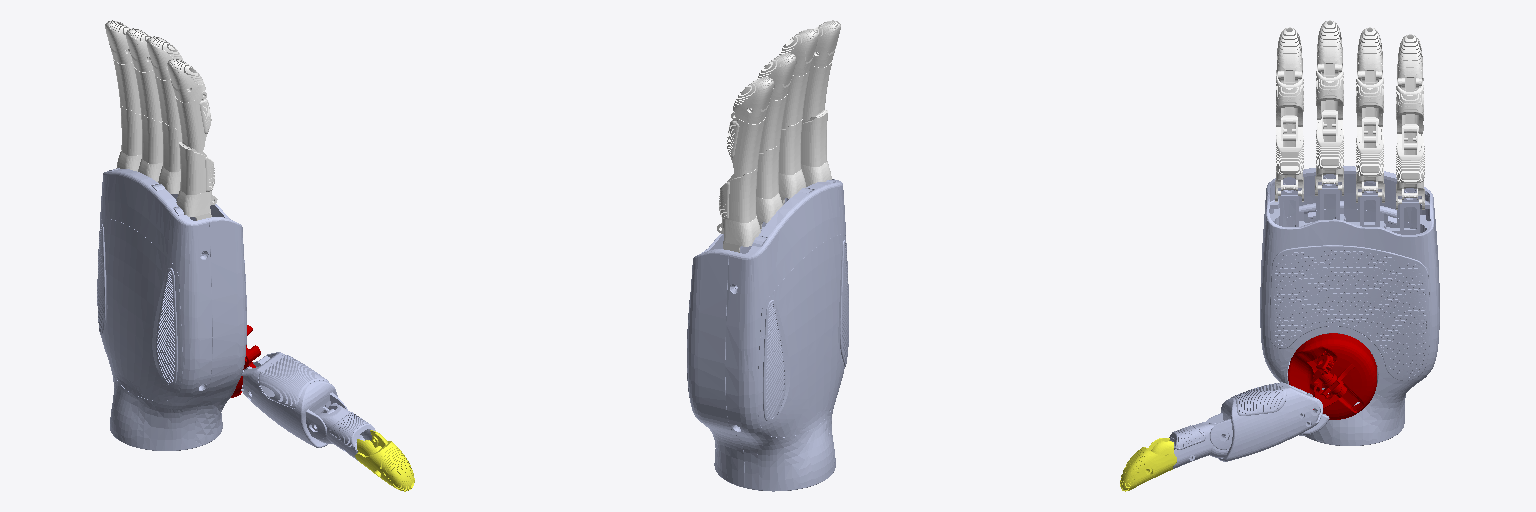
URDF robot description (linkerhand_L25YS_left.urdf):
<?xml version='1.0' encoding='utf-8'?>
<robot name="linkerhand_L25YS_left.urdf">
  <link name="hand_base_link">
    <inertial>
      <origin xyz="-0.00235533265975 0.000476950676817 0.0840274681191" rpy="0 0 0" />
      <mass value="0.130043890829141" />
      <inertia ixx="0.000269869493590307" ixy="5.66836728556e-07" ixz="1.07919384479383E-06" iyy="0.000164906210534402" iyz="-4.94586055859e-06" izz="0.00011883452436949" />
    </inertial>
    <visual>
      <origin xyz="0 -0 0" rpy="0 0 0" />
      <geometry>
        <mesh filename="meshes/hand_base_link.STL" />
      </geometry>
      <material name="">
        <color rgba="0.792156862745098 0.819607843137255 0.929411764705882 1" />
      </material>
    </visual>
    <collision>
      <origin xyz="0 -0 0" rpy="0 0 0" />
      <geometry>
        <mesh filename="meshes/hand_base_link.STL" />
      </geometry>
    </collision>
  </link>
  <link name="thumb_metacarpals_base1">
    <inertial>
      <origin xyz="0.0121300685642 0.003686264019 0.000253013805235" rpy="0 0 0" />
      <mass value="0.0173128324517923" />
      <inertia ixx="4.0497489026424E-06" ixy="1.31074266242e-07" ixz="-7.53905165403533E-09" iyy="2.43513754798381E-06" iyz="-1.46366596393e-07" izz="2.09347392894973E-06" />
    </inertial>
    <visual>
      <origin xyz="0 -0 0" rpy="0 0 0" />
      <geometry>
        <mesh filename="meshes/thumb_metacarpals_base1.STL" />
      </geometry>
      <material name="">
        <color rgba="0.749019607843137 0 0 1" />
      </material>
    </visual>
    <collision>
      <origin xyz="0 -0 0" rpy="0 0 0" />
      <geometry>
        <mesh filename="meshes/thumb_metacarpals_base1.STL" />
      </geometry>
    </collision>
  </link>
  <joint name="thumb_cmc_roll" type="revolute">
    <origin xyz="0.01916 -0.01 0.0436" rpy="0 0 0" />
    <parent link="hand_base_link" />
    <child link="thumb_metacarpals_base1" />
    <axis xyz="-1 0 -0" />
    <limit lower="0" upper="1.39" effort="0" velocity="1" />
  </joint>
  <link name="thumb_metacarpals_base2">
    <inertial>
      <origin xyz="0.00145768421938 -0.00427730188418 0.00427718742092" rpy="0 0 0" />
      <mass value="0.0104609680387425" />
      <inertia ixx="1.01498446393502E-06" ixy="-1.60237316815e-07" ixz="-9.39061051572462E-08" iyy="5.43731509546478E-07" iyz="2.69571705103e-07" izz="7.46018347937883E-07" />
    </inertial>
    <visual>
      <origin xyz="0 -0 0" rpy="0 0 0" />
      <geometry>
        <mesh filename="meshes/thumb_metacarpals_base2.STL" />
      </geometry>
      <material name="">
        <color rgba="0.749 0 0 1" />
      </material>
    </visual>
    <collision>
      <origin xyz="0 -0 0" rpy="0 0 0" />
      <geometry>
        <mesh filename="meshes/thumb_metacarpals_base2.STL" />
      </geometry>
    </collision>
  </link>
  <joint name="thumb_cmc_yaw" type="revolute">
    <origin xyz="0.019845 -0 0" rpy="0.77165 0 0" />
    <parent link="thumb_metacarpals_base1" />
    <child link="thumb_metacarpals_base2" />
    <axis xyz="-0 0 1" />
    <limit lower="0" upper="1.57" effort="0" velocity="1" />
  </joint>
  <link name="thumb_metacarpals">
    <inertial>
      <origin xyz="0.00166395649131 -3.23455418085e-05 0.026876825553" rpy="0 0 0" />
      <mass value="0.0231166462756945" />
      <inertia ixx="7.05340216362533E-06" ixy="-3.46779128406e-09" ixz="1.20984983371333E-07" iyy="8.45529201210186E-06" iyz="4.08116131354e-08" izz="2.28098786020238E-06" />
    </inertial>
    <visual>
      <origin xyz="0 -0 0" rpy="0 0 0" />
      <geometry>
        <mesh filename="meshes/thumb_metacarpals.STL" />
      </geometry>
      <material name="">
        <color rgba="0.792156862745098 0.819607843137255 0.933333333333333 1" />
      </material>
    </visual>
    <collision>
      <origin xyz="0 -0 0" rpy="0 0 0" />
      <geometry>
        <mesh filename="meshes/thumb_metacarpals.STL" />
      </geometry>
    </collision>
  </link>
  <joint name="thumb_cmc_pitch" type="revolute">
    <origin xyz="0.00643 -0.017666 0.0005" rpy="-1.11022302463e-16 -1.0678 1.9199" />
    <parent link="thumb_metacarpals_base2" />
    <child link="thumb_metacarpals" />
    <axis xyz="-0 1 -0" />
    <limit lower="0" upper="0.83" effort="0" velocity="1" />
  </joint>
  <link name="thumb_proximal">
    <inertial>
      <origin xyz="-0.00216253056774 -0.000518290081375 0.0119572921096" rpy="0 0 0" />
      <mass value="0.00549015551090954" />
      <inertia ixx="4.73112823619181E-07" ixy="-2.71664429442e-10" ixz="6.46214852016994E-08" iyy="6.23171601919004E-07" iyz="-5.10860081746e-09" izz="2.40156566276674E-07" />
    </inertial>
    <visual>
      <origin xyz="0 -0 0" rpy="0 0 0" />
      <geometry>
        <mesh filename="meshes/thumb_proximal.STL" />
      </geometry>
      <material name="">
        <color rgba="0.792156862745098 0.819607843137255 0.933333333333333 1" />
      </material>
    </visual>
    <collision>
      <origin xyz="0 -0 0" rpy="0 0 0" />
      <geometry>
        <mesh filename="meshes/thumb_proximal.STL" />
      </geometry>
    </collision>
  </link>
  <joint name="thumb_mcp" type="revolute">
    <origin xyz="0.004056 3.2464e-05 0.056083" rpy="0 0 0" />
    <parent link="thumb_metacarpals" />
    <child link="thumb_proximal" />
    <axis xyz="-0 1 -0" />
    <limit lower="0" upper="1.25" effort="0" velocity="1" />
  </joint>
  <link name="thumb_distal">
    <inertial>
      <origin xyz="-0.000156463068744 -4.17127972733e-05 0.0112120749516" rpy="0 0 0" />
      <mass value="0.00585464354874344" />
      <inertia ixx="3.46753247559069E-07" ixy="-3.27775618154e-10" ixz="-1.0520040575966E-07" iyy="4.37703674166437E-07" iyz="9.51622290976e-10" izz="1.76044008182289E-07" />
    </inertial>
    <visual>
      <origin xyz="0 -0 0" rpy="0 0 0" />
      <geometry>
        <mesh filename="meshes/thumb_distal.STL" />
      </geometry>
      <material name="">
        <color rgba="0.996078431372549 1 0.317647058823529 1" />
      </material>
    </visual>
    <collision>
      <origin xyz="0 -0 0" rpy="0 0 0" />
      <geometry>
        <mesh filename="meshes/thumb_distal.STL" />
      </geometry>
    </collision>
  </link>
  <joint name="thumb_ip" type="revolute">
    <origin xyz="-0.0033235 6.7577e-05 0.034403" rpy="0 0 0" />
    <parent link="thumb_proximal" />
    <child link="thumb_distal" />
    <axis xyz="-0 1 -0" />
    <limit lower="0" upper="1.29" effort="0" velocity="1" />
    <mimic joint="thumb_mcp" multiplier="1.03" offset="0" />
  </joint>
  <link name="index_metacarpals">
    <inertial>
      <origin xyz="-0.00794297216281 -3.01916907204e-07 0.00220112289532" rpy="0 0 0" />
      <mass value="0.000895533937958974" />
      <inertia ixx="3.46286807517812E-08" ixy="-5.2071428442e-13" ixz="5.91055678814615E-09" iyy="2.85439868248641E-08" iyz="-6.15938034352e-13" izz="4.38105935611934E-08" />
    </inertial>
    <visual>
      <origin xyz="0 -0 0" rpy="0 0 0" />
      <geometry>
        <mesh filename="meshes/index_metacarpals.STL" />
      </geometry>
      <material name="">
        <color rgba="1 1 1 1" />
      </material>
    </visual>
    <collision>
      <origin xyz="0 -0 0" rpy="0 0 0" />
      <geometry>
        <mesh filename="meshes/index_metacarpals.STL" />
      </geometry>
    </collision>
  </link>
  <joint name="index_mcp_roll" type="revolute">
    <origin xyz="0.0038 -0.03525 0.1481" rpy="0 0 0" />
    <parent link="hand_base_link" />
    <child link="index_metacarpals" />
    <axis xyz="1 0 -0" />
    <limit lower="-0.23" upper="0.23" effort="0" velocity="1" />
  </joint>
  <link name="index_proximal">
    <inertial>
      <origin xyz="-0.00114165889805 3.47779025312e-05 0.0228930740987" rpy="0 0 0" />
      <mass value="0.00450935628154296" />
      <inertia ixx="6.66693338335737E-07" ixy="-1.00781853152e-11" ixz="-2.53156876802065E-08" iyy="6.74214594716538E-07" iyz="-1.59197443844e-10" izz="1.35760887991129E-07" />
    </inertial>
    <visual>
      <origin xyz="0 -0 0" rpy="0 0 0" />
      <geometry>
        <mesh filename="meshes/index_proximal.STL" />
      </geometry>
      <material name="">
        <color rgba="1 1 1 1" />
      </material>
    </visual>
    <collision>
      <origin xyz="0 -0 0" rpy="0 0 0" />
      <geometry>
        <mesh filename="meshes/index_proximal.STL" />
      </geometry>
    </collision>
  </link>
  <joint name="index_mcp_pitch" type="revolute">
    <origin xyz="-0.0021302 -0 0" rpy="0 0 0" />
    <parent link="index_metacarpals" />
    <child link="index_proximal" />
    <axis xyz="-0 1 -0" />
    <limit lower="0" upper="1.22" effort="0" velocity="1" />
  </joint>
  <link name="index_middle">
    <inertial>
      <origin xyz="-0.00020683031467 2.69762827292e-06 0.0167055565295" rpy="0 0 0" />
      <mass value="0.0023786182416333" />
      <inertia ixx="2.29584431475406E-07" ixy="3.79527882015e-12" ixz="-1.47269516053003E-08" iyy="1.76802239049368E-07" iyz="-3.59871792653e-13" izz="9.62875380319594E-08" />
    </inertial>
    <visual>
      <origin xyz="0 -0 0" rpy="0 0 0" />
      <geometry>
        <mesh filename="meshes/index_middle.STL" />
      </geometry>
      <material name="">
        <color rgba="1 1 1 1" />
      </material>
    </visual>
    <collision>
      <origin xyz="0 -0 0" rpy="0 0 0" />
      <geometry>
        <mesh filename="meshes/index_middle.STL" />
      </geometry>
    </collision>
  </link>
  <joint name="index_pip" type="revolute">
    <origin xyz="-0.0041946 -0 0.044819" rpy="0 0 0" />
    <parent link="index_proximal" />
    <child link="index_middle" />
    <axis xyz="-0 1 -0" />
    <limit lower="0" upper="1.75" effort="0" velocity="1" />
  </joint>
  <link name="index_distal">
    <inertial>
      <origin xyz="-0.00816260402462 2.26721604493e-05 0.0081181972287" rpy="0 0 0" />
      <mass value="0.00334176238570704" />
      <inertia ixx="1.59568900399119E-07" ixy="1.52271643282e-10" ixz="-5.94266141046017E-08" iyy="1.78096631602273E-07" iyz="-1.23981970769e-10" izz="1.34139906914153E-07" />
    </inertial>
    <visual>
      <origin xyz="0 -0 0" rpy="0 0 0" />
      <geometry>
        <mesh filename="meshes/index_distal.STL" />
      </geometry>
      <material name="">
        <color rgba="1 1 1 1" />
      </material>
    </visual>
    <collision>
      <origin xyz="0 -0 0" rpy="0 0 0" />
      <geometry>
        <mesh filename="meshes/index_distal.STL" />
      </geometry>
    </collision>
  </link>
  <joint name="index_dip" type="revolute">
    <origin xyz="0.0028245 -0 0.031696" rpy="0 0 0" />
    <parent link="index_middle" />
    <child link="index_distal" />
    <axis xyz="-0 1 -0" />
    <limit lower="0" upper="1.55" effort="0" velocity="1" />
    <mimic joint="index_pip" multiplier="0.89" offset="0" />
  </joint>
  <link name="middle_metacarpals">
    <inertial>
      <origin xyz="-0.00794297216647 -3.01916907182e-07 0.00220112289532" rpy="0 0 0" />
      <mass value="0.000895533937958971" />
      <inertia ixx="3.46286807517811E-08" ixy="-5.20714284242e-13" ixz="5.91055678814619E-09" iyy="2.85439868248641E-08" iyz="-6.15938034248e-13" izz="4.38105935611934E-08" />
    </inertial>
    <visual>
      <origin xyz="0 -0 0" rpy="0 0 0" />
      <geometry>
        <mesh filename="meshes/middle_metacarpals.STL" />
      </geometry>
      <material name="">
        <color rgba="1 1 1 1" />
      </material>
    </visual>
    <collision>
      <origin xyz="0 -0 0" rpy="0 0 0" />
      <geometry>
        <mesh filename="meshes/middle_metacarpals.STL" />
      </geometry>
    </collision>
  </link>
  <joint name="middle_mcp_roll" type="revolute">
    <origin xyz="0.0038 -0.01175 0.1526" rpy="0 0 0" />
    <parent link="hand_base_link" />
    <child link="middle_metacarpals" />
    <axis xyz="1 0 -0" />
    <limit lower="-0.23" upper="0.23" effort="0" velocity="1" />
  </joint>
  <link name="middle_proximal">
    <inertial>
      <origin xyz="-0.00114165889805 3.47779025311e-05 0.0228930740987" rpy="0 0 0" />
      <mass value="0.00450935628154297" />
      <inertia ixx="6.6669333833574E-07" ixy="-1.00781853158e-11" ixz="-2.53156876802068E-08" iyy="6.74214594716535E-07" iyz="-1.59197443845e-10" izz="1.35760887991121E-07" />
    </inertial>
    <visual>
      <origin xyz="0 -0 0" rpy="0 0 0" />
      <geometry>
        <mesh filename="meshes/middle_proximal.STL" />
      </geometry>
      <material name="">
        <color rgba="1 1 1 1" />
      </material>
    </visual>
    <collision>
      <origin xyz="0 -0 0" rpy="0 0 0" />
      <geometry>
        <mesh filename="meshes/middle_proximal.STL" />
      </geometry>
    </collision>
  </link>
  <joint name="middle_mcp_pitch" type="revolute">
    <origin xyz="-0.0021302 -0 0" rpy="0 0 0" />
    <parent link="middle_metacarpals" />
    <child link="middle_proximal" />
    <axis xyz="-0 1 -0" />
    <limit lower="0" upper="1.22" effort="0" velocity="1" />
  </joint>
  <link name="middle_middle">
    <inertial>
      <origin xyz="-0.000206830311077 2.69763200649e-06 0.0167055565393" rpy="0 0 0" />
      <mass value="0.00237861824399127" />
      <inertia ixx="2.2958443176697E-07" ixy="3.79531728855e-12" ixz="-1.47269515025649E-08" iyy="1.76802239346606E-07" iyz="-3.59776198007e-13" izz="9.62875381090065E-08" />
    </inertial>
    <visual>
      <origin xyz="0 -0 0" rpy="0 0 0" />
      <geometry>
        <mesh filename="meshes/middle_middle.STL" />
      </geometry>
      <material name="">
        <color rgba="1 1 1 1" />
      </material>
    </visual>
    <collision>
      <origin xyz="0 -0 0" rpy="0 0 0" />
      <geometry>
        <mesh filename="meshes/middle_middle.STL" />
      </geometry>
    </collision>
  </link>
  <joint name="middle_pip" type="revolute">
    <origin xyz="-0.0041946 -0 0.044819" rpy="0 0 0" />
    <parent link="middle_proximal" />
    <child link="middle_middle" />
    <axis xyz="-0 1 -0" />
    <limit lower="0" upper="1.75" effort="0" velocity="1" />
  </joint>
  <link name="middle_distal">
    <inertial>
      <origin xyz="-0.00816260402458 2.26721612611e-05 0.00811819722943" rpy="0 0 0" />
      <mass value="0.00334176238572949" />
      <inertia ixx="1.59568900407287E-07" ixy="1.52271672186e-10" ixz="-5.94266141070478E-08" iyy="1.78096631550001E-07" iyz="-1.23981962913e-10" izz="1.34139906932954E-07" />
    </inertial>
    <visual>
      <origin xyz="0 -0 0" rpy="0 0 0" />
      <geometry>
        <mesh filename="meshes/middle_distal.STL" />
      </geometry>
      <material name="">
        <color rgba="1 1 1 1" />
      </material>
    </visual>
    <collision>
      <origin xyz="0 -0 0" rpy="0 0 0" />
      <geometry>
        <mesh filename="meshes/middle_distal.STL" />
      </geometry>
    </collision>
  </link>
  <joint name="middle_dip" type="revolute">
    <origin xyz="0.0028245 -0 0.031696" rpy="0 0 0" />
    <parent link="middle_middle" />
    <child link="middle_distal" />
    <axis xyz="-0 1 -0" />
    <limit lower="0" upper="1.55" effort="0" velocity="1" />
    <mimic joint="middle_pip" multiplier="0.89" offset="0" />
  </joint>
  <link name="ring_metacarpals">
    <inertial>
      <origin xyz="-0.00794297217014 -3.01916907145e-07 0.00220112289532" rpy="0 0 0" />
      <mass value="0.000895533937958968" />
      <inertia ixx="3.4628680751781E-08" ixy="-5.20714284256e-13" ixz="5.91055678814607E-09" iyy="2.85439868248638E-08" iyz="-6.15938034158e-13" izz="4.38105935611932E-08" />
    </inertial>
    <visual>
      <origin xyz="0 -0 0" rpy="0 0 0" />
      <geometry>
        <mesh filename="meshes/ring_metacarpals.STL" />
      </geometry>
      <material name="">
        <color rgba="1 1 1 1" />
      </material>
    </visual>
    <collision>
      <origin xyz="0 -0 0" rpy="0 0 0" />
      <geometry>
        <mesh filename="meshes/ring_metacarpals.STL" />
      </geometry>
    </collision>
  </link>
  <joint name="ring_mcp_roll" type="revolute">
    <origin xyz="0.0038 0.01175 0.1481" rpy="0 0 0" />
    <parent link="hand_base_link" />
    <child link="ring_metacarpals" />
    <axis xyz="1 0 -0" />
    <limit lower="-0.23" upper="0.23" effort="0" velocity="1" />
  </joint>
  <link name="ring_proximal">
    <inertial>
      <origin xyz="-0.00114165889805 3.47779025312e-05 0.0228930740987" rpy="0 0 0" />
      <mass value="0.00450935628154298" />
      <inertia ixx="6.66693338335737E-07" ixy="-1.0078185317e-11" ixz="-2.53156876802065E-08" iyy="6.74214594716548E-07" iyz="-1.59197443844e-10" izz="1.3576088799114E-07" />
    </inertial>
    <visual>
      <origin xyz="0 -0 0" rpy="0 0 0" />
      <geometry>
        <mesh filename="meshes/ring_proximal.STL" />
      </geometry>
      <material name="">
        <color rgba="1 1 1 1" />
      </material>
    </visual>
    <collision>
      <origin xyz="0 -0 0" rpy="0 0 0" />
      <geometry>
        <mesh filename="meshes/ring_proximal.STL" />
      </geometry>
    </collision>
  </link>
  <joint name="ring_mcp_pitch" type="revolute">
    <origin xyz="-0.0021302 -0 0" rpy="0 0 0" />
    <parent link="ring_metacarpals" />
    <child link="ring_proximal" />
    <axis xyz="-0 1 -0" />
    <limit lower="0" upper="1.22" effort="0" velocity="1" />
  </joint>
  <link name="ring_middle">
    <inertial>
      <origin xyz="-0.000206830314671 2.69762827289e-06 0.0167055565295" rpy="0 0 0" />
      <mass value="0.00237861824163318" />
      <inertia ixx="2.29584431475388E-07" ixy="3.79527881059e-12" ixz="-1.47269516053127E-08" iyy="1.76802239049448E-07" iyz="-3.59871797724e-13" izz="9.62875380320034E-08" />
    </inertial>
    <visual>
      <origin xyz="0 -0 0" rpy="0 0 0" />
      <geometry>
        <mesh filename="meshes/ring_middle.STL" />
      </geometry>
      <material name="">
        <color rgba="1 1 1 1" />
      </material>
    </visual>
    <collision>
      <origin xyz="0 -0 0" rpy="0 0 0" />
      <geometry>
        <mesh filename="meshes/ring_middle.STL" />
      </geometry>
    </collision>
  </link>
  <joint name="ring_pip" type="revolute">
    <origin xyz="-0.0041946 -0 0.044819" rpy="0 0 0" />
    <parent link="ring_proximal" />
    <child link="ring_middle" />
    <axis xyz="-0 1 -0" />
    <limit lower="0" upper="1.75" effort="0" velocity="1" />
  </joint>
  <link name="ring_distal">
    <inertial>
      <origin xyz="-0.00816260402385 2.26723442381e-05 0.00811819722787" rpy="0 0 0" />
      <mass value="0.00334176238553782" />
      <inertia ixx="1.59568900413529E-07" ixy="1.52265550111e-10" ixz="-5.9426614092103E-08" iyy="1.78096631554275E-07" iyz="-1.23978578539e-10" izz="1.34139906897543E-07" />
    </inertial>
    <visual>
      <origin xyz="0 -0 0" rpy="0 0 0" />
      <geometry>
        <mesh filename="meshes/ring_distal.STL" />
      </geometry>
      <material name="">
        <color rgba="1 1 1 1" />
      </material>
    </visual>
    <collision>
      <origin xyz="0 -0 0" rpy="0 0 0" />
      <geometry>
        <mesh filename="meshes/ring_distal.STL" />
      </geometry>
    </collision>
  </link>
  <joint name="ring_dip" type="revolute">
    <origin xyz="0.0028245 -0 0.031696" rpy="0 0 0" />
    <parent link="ring_middle" />
    <child link="ring_distal" />
    <axis xyz="-0 1 -0" />
    <limit lower="0" upper="1.55" effort="0" velocity="1" />
    <mimic joint="ring_pip" multiplier="0.89" offset="0" />
  </joint>
  <link name="pinky_metacarpals">
    <inertial>
      <origin xyz="-0.0079429721738 -3.01916907162e-07 0.00220112289532" rpy="0 0 0" />
      <mass value="0.00089553393795896" />
      <inertia ixx="3.46286807517807E-08" ixy="-5.20714284267e-13" ixz="5.91055678814606E-09" iyy="2.85439868248637E-08" iyz="-6.15938034211e-13" izz="4.3810593561193E-08" />
    </inertial>
    <visual>
      <origin xyz="0 -0 0" rpy="0 0 0" />
      <geometry>
        <mesh filename="meshes/pinky_metacarpals.STL" />
      </geometry>
      <material name="">
        <color rgba="1 1 1 1" />
      </material>
    </visual>
    <collision>
      <origin xyz="0 -0 0" rpy="0 0 0" />
      <geometry>
        <mesh filename="meshes/pinky_metacarpals.STL" />
      </geometry>
    </collision>
  </link>
  <joint name="pinky_mcp_roll" type="revolute">
    <origin xyz="0.0038 0.03525 0.1436" rpy="0 0 0" />
    <parent link="hand_base_link" />
    <child link="pinky_metacarpals" />
    <axis xyz="1 0 -0" />
    <limit lower="-0.23" upper="0.23" effort="0" velocity="1" />
  </joint>
  <link name="pinky_proximal">
    <inertial>
      <origin xyz="-0.00114165890216 3.47779084242e-05 0.0228930741124" rpy="0 0 0" />
      <mass value="0.00450935627773311" />
      <inertia ixx="6.66693337543229E-07" ixy="-1.00781372651e-11" ixz="-2.53156873668279E-08" iyy="6.74214593816853E-07" iyz="-1.59197565505e-10" izz="1.35760887844139E-07" />
    </inertial>
    <visual>
      <origin xyz="0 -0 0" rpy="0 0 0" />
      <geometry>
        <mesh filename="meshes/pinky_proximal.STL" />
      </geometry>
      <material name="">
        <color rgba="1 1 1 1" />
      </material>
    </visual>
    <collision>
      <origin xyz="0 -0 0" rpy="0 0 0" />
      <geometry>
        <mesh filename="meshes/pinky_proximal.STL" />
      </geometry>
    </collision>
  </link>
  <joint name="pinky_mcp_pitch" type="revolute">
    <origin xyz="-0.0021302 -0 0" rpy="0 0 0" />
    <parent link="pinky_metacarpals" />
    <child link="pinky_proximal" />
    <axis xyz="-0 1 -0" />
    <limit lower="0" upper="1.22" effort="0" velocity="1" />
  </joint>
  <link name="pinky_middle">
    <inertial>
      <origin xyz="-0.00020683031467 2.69762827296e-06 0.0167055565295" rpy="0 0 0" />
      <mass value="0.00237861824163332" />
      <inertia ixx="2.2958443147546E-07" ixy="3.79527884699e-12" ixz="-1.4726951605308E-08" iyy="1.76802239049466E-07" iyz="-3.59871806676e-13" izz="9.62875380320416E-08" />
    </inertial>
    <visual>
      <origin xyz="0 -0 0" rpy="0 0 0" />
      <geometry>
        <mesh filename="meshes/pinky_middle.STL" />
      </geometry>
      <material name="">
        <color rgba="1 1 1 1" />
      </material>
    </visual>
    <collision>
      <origin xyz="0 -0 0" rpy="0 0 0" />
      <geometry>
        <mesh filename="meshes/pinky_middle.STL" />
      </geometry>
    </collision>
  </link>
  <joint name="pinky_pip" type="revolute">
    <origin xyz="-0.0041946 -0 0.044819" rpy="0 0 0" />
    <parent link="pinky_proximal" />
    <child link="pinky_middle" />
    <axis xyz="-0 1 -0" />
    <limit lower="0" upper="1.75" effort="0" velocity="1" />
  </joint>
  <link name="pinky_distal">
    <inertial>
      <origin xyz="-0.008162603913 2.26722056161e-05 0.00811819704291" rpy="0 0 0" />
      <mass value="0.00334176233214273" />
      <inertia ixx="1.59568898336975E-07" ixy="1.52270106342e-10" ixz="-5.94266114992739E-08" iyy="1.78096625944569E-07" iyz="-1.23981107883e-10" izz="1.3413990252827E-07" />
    </inertial>
    <visual>
      <origin xyz="0 -0 0" rpy="0 0 0" />
      <geometry>
        <mesh filename="meshes/pinky_distal.STL" />
      </geometry>
      <material name="">
        <color rgba="1 1 1 1" />
      </material>
    </visual>
    <collision>
      <origin xyz="0 -0 0" rpy="0 0 0" />
      <geometry>
        <mesh filename="meshes/pinky_distal.STL" />
      </geometry>
    </collision>
  </link>
  <joint name="pinky_dip" type="revolute">
    <origin xyz="0.0028245 -0 0.031696" rpy="0 0 0" />
    <parent link="pinky_middle" />
    <child link="pinky_distal" />
    <axis xyz="-0 1 -0" />
    <limit lower="0" upper="1.55" effort="0" velocity="1" />
    <mimic joint="pinky_pip" multiplier="0.89" offset="0" />
  </joint>
</robot>

--- Facts derived from the render (not from the file) ---
Views: 3 orthographic renders of the robot side by side, from view 1: azimuth 30°, elevation 25°; view 2: azimuth 150°, elevation 25°; view 3: azimuth 270°, elevation 25°.
Robot: linkerhand_L25YS_left.urdf — 22 links, 21 joints (21 revolute); root link hand_base_link; default pose: all joints at 0.
Visible links, largest first — view 1: hand_base_link, thumb_metacarpals, index_proximal, thumb_distal, thumb_proximal, index_middle, ring_proximal, pinky_proximal, middle_proximal, index_distal, pinky_middle, ring_middle (+4 smaller); view 2: hand_base_link, pinky_proximal, index_proximal, pinky_middle, middle_proximal, ring_proximal, pinky_distal, index_middle, ring_distal, middle_distal, index_distal, ring_middle (+1 smaller); view 3: hand_base_link, thumb_metacarpals, thumb_metacarpals_base1, pinky_proximal, ring_proximal, middle_proximal, index_proximal, thumb_distal, thumb_proximal, pinky_middle, ring_middle, middle_middle (+6 smaller).
Boxes of the visible links, x1,y1,x2,y2 form: hand_base_link: [97, 168, 246, 450]; thumb_metacarpals: [241, 352, 347, 447]; index_proximal: [175, 142, 217, 220]; thumb_distal: [355, 430, 414, 491]; thumb_proximal: [316, 403, 375, 460]; index_middle: [175, 91, 211, 151]; ring_proximal: [138, 113, 162, 181]; pinky_proximal: [116, 105, 141, 171]; middle_proximal: [158, 121, 181, 193]; index_distal: [167, 59, 205, 102]; pinky_middle: [113, 59, 140, 113]; ring_middle: [134, 67, 161, 121]; hand_base_link: [687, 179, 848, 491]; pinky_proximal: [717, 168, 760, 252]; index_proximal: [801, 110, 831, 186]; pinky_middle: [727, 112, 765, 176]; middle_proximal: [779, 120, 805, 204]; ring_proximal: [756, 144, 782, 228]; pinky_distal: [733, 77, 773, 123]; index_middle: [802, 62, 831, 120]; ring_distal: [756, 53, 795, 99]; middle_distal: [779, 29, 818, 75]; index_distal: [811, 20, 840, 67]; ring_middle: [759, 94, 787, 152]; hand_base_link: [1260, 166, 1439, 445]; thumb_metacarpals: [1206, 382, 1329, 461]; thumb_metacarpals_base1: [1288, 333, 1376, 419]; pinky_proximal: [1396, 124, 1424, 209]; ring_proximal: [1356, 117, 1384, 202]; middle_proximal: [1315, 110, 1343, 195]; index_proximal: [1275, 115, 1303, 201]; thumb_distal: [1120, 438, 1176, 491]; thumb_proximal: [1169, 422, 1228, 468]; pinky_middle: [1396, 78, 1423, 133]; ring_middle: [1356, 71, 1383, 126]; middle_middle: [1316, 64, 1343, 119].
Size in the robot's own frame: 0.1195 by 0.1867 by 0.2573 metres.
18 mesh visuals loaded from 22 distinct referenced files (18 binary STL); not drawn: 4 (reference not matched to a file when rendering).
